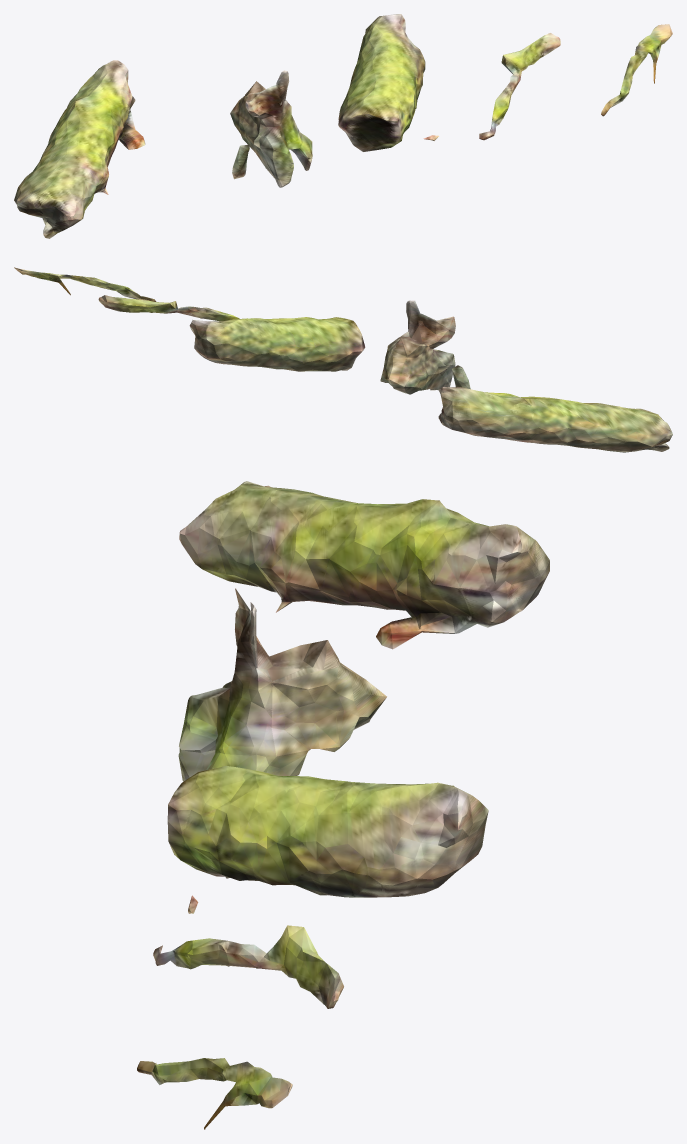
File: forest_flora.glb
The picture shows the model from 3 angles, top to bottom: view 1: azimuth 30°, elevation 25°; view 2: azimuth 150°, elevation 25°; view 3: azimuth 270°, elevation 25°; orthographic projection. The views are drawn at different scales.
Parts seen in each view (by area): view 1: geometry_0; view 2: geometry_0; view 3: geometry_0.
Boxes of the visible parts, bbox=[...] form: geometry_0: bbox=[14, 14, 672, 238]; geometry_0: bbox=[14, 267, 672, 452]; geometry_0: bbox=[137, 481, 549, 1129].
Size of the model in its own units: 0.982 by 0.1442 by 0.2698.
Materials: 1 (1 with a texture image).
